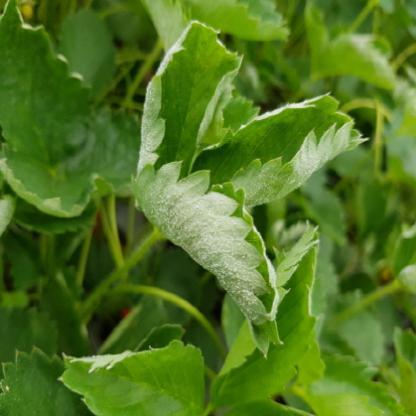Strawberry_Powdery_Mildew_Leaf: (130, 160, 286, 360), (190, 90, 370, 208), (136, 19, 244, 182), (57, 339, 206, 415)
